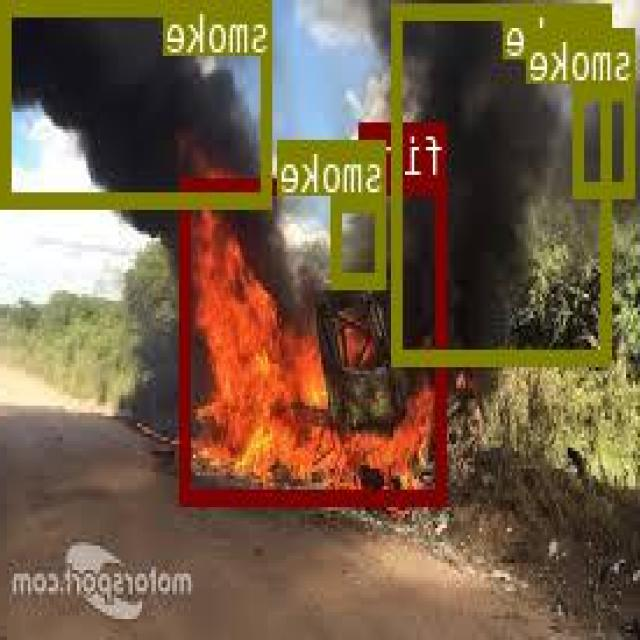fire: (182, 176, 448, 502)
smoke: (395, 2, 614, 362), (4, 0, 274, 203), (576, 81, 636, 192), (335, 192, 387, 284)
